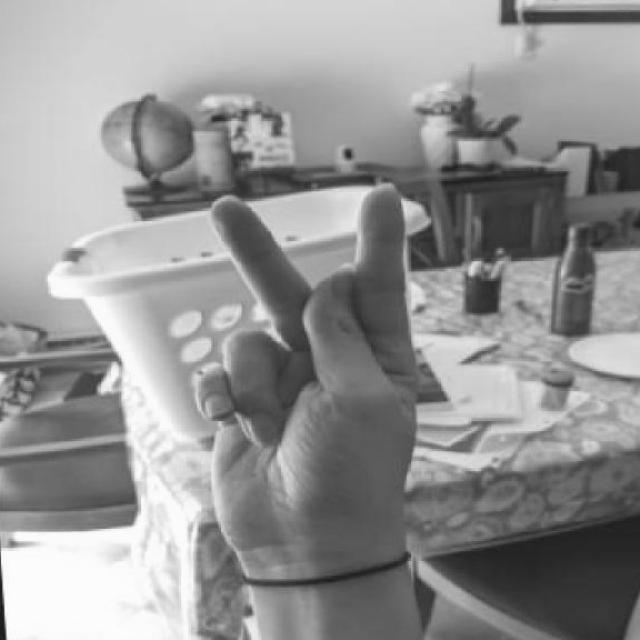K: (185, 174, 433, 597)
